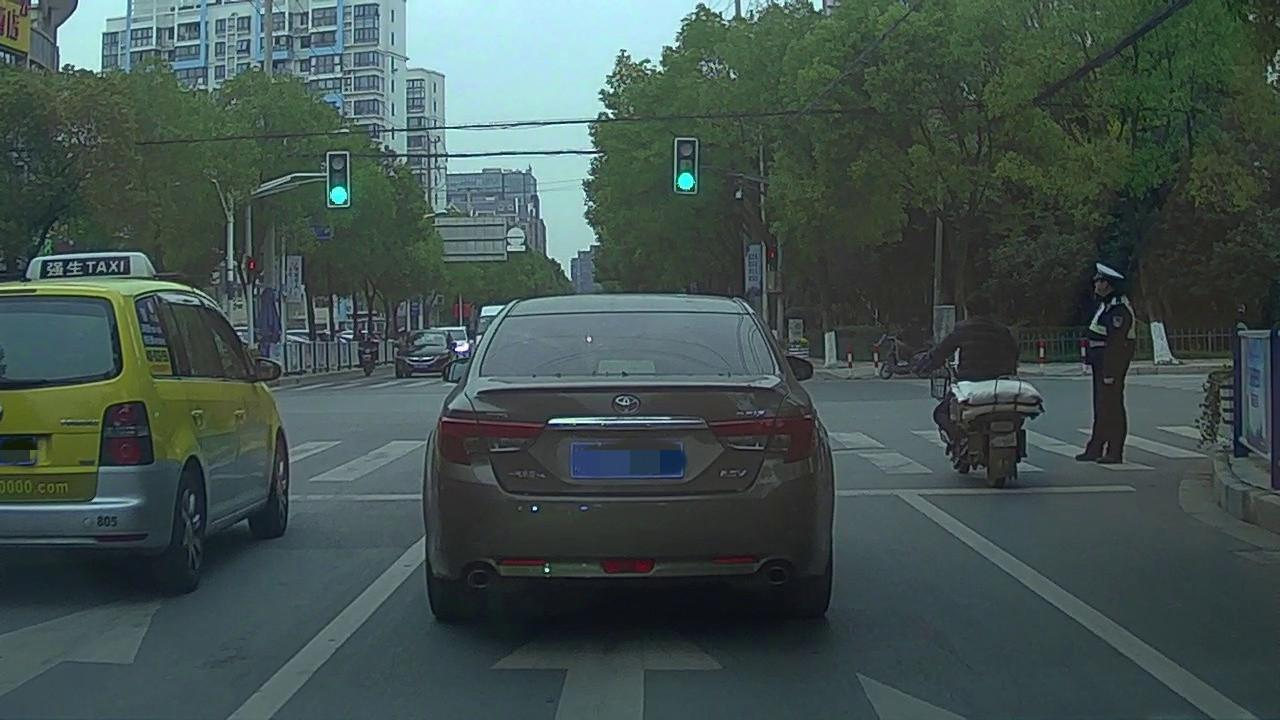traffic_light: (328, 153, 347, 208), (679, 139, 694, 190)
